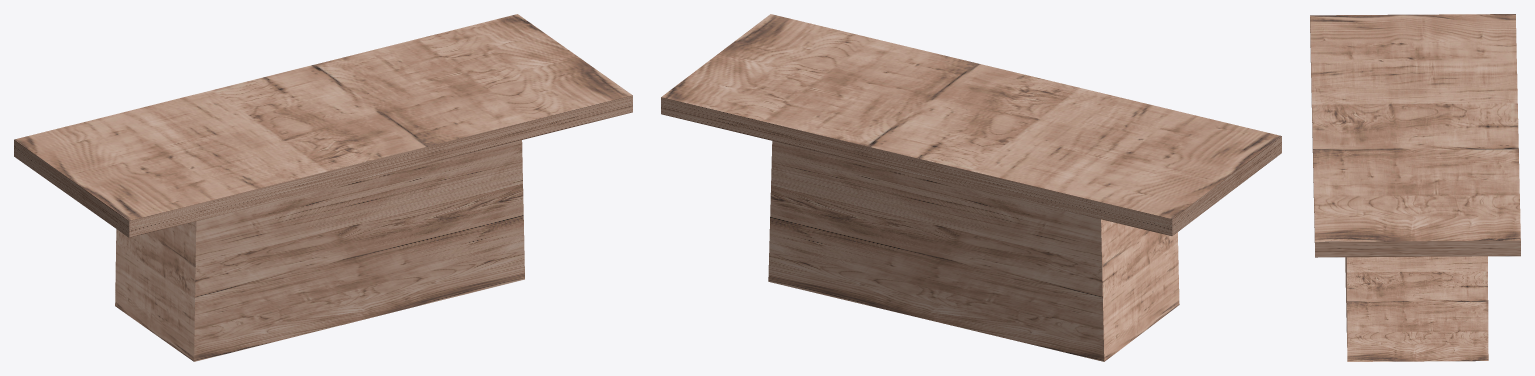
Rendered from Mesa.obj.
3 renders of one model, left to right at view 1: azimuth 30°, elevation 25°; view 2: azimuth 150°, elevation 25°; view 3: azimuth 270°, elevation 25°, orthographic. The views are drawn at different scales.
Parts seen in each view (by area): view 1: Mesa:polySurface1; view 2: Mesa:polySurface1; view 3: Mesa:polySurface1.
Part boxes in pixels (left/top/right/bottom): Mesa:polySurface1: left=14, top=14, right=632, bottom=361; Mesa:polySurface1: left=661, top=14, right=1281, bottom=361; Mesa:polySurface1: left=1310, top=14, right=1520, bottom=361.
Size of the model in its own units: 1.2 by 0.3927 by 0.4675.
1 material, 1 textured.
